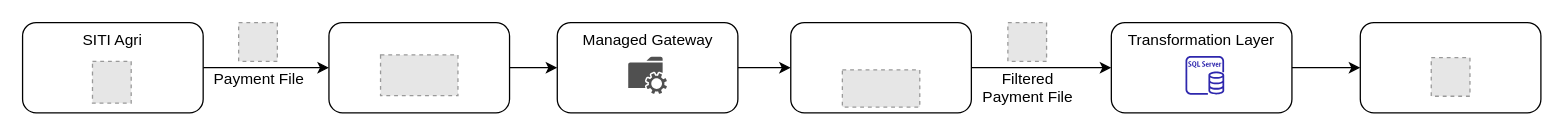
This 1563x135 diagram has some shape labels left out. Grey dashed boxes stand in for pictures. Each missing label, with the box of its shape:
Dynamics 365 (DAX): (1359, 21, 1541, 113)
MFT: (328, 21, 510, 113)
Tactical SFI Pilot Payments: (789, 21, 971, 113)
